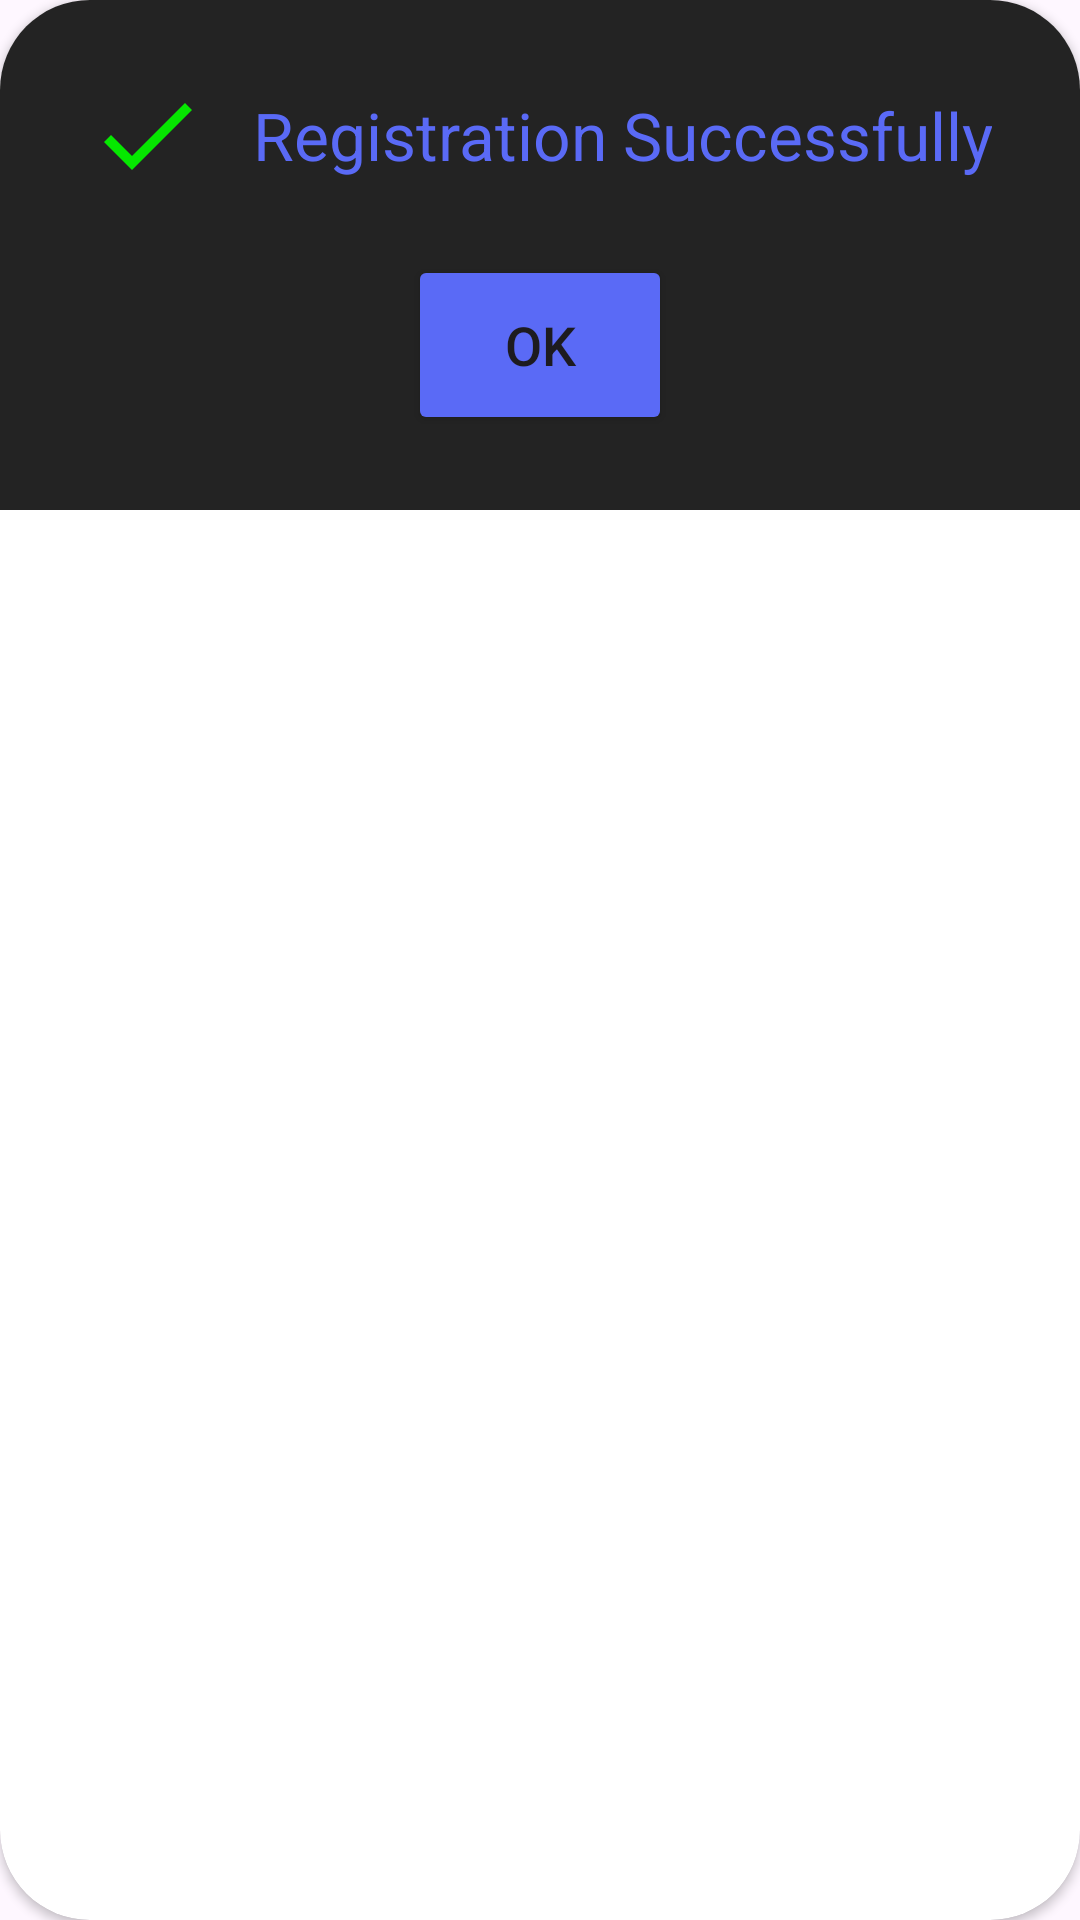

Named icons in this screenshot (1080 x 1920) and their bounding boxes, (x1, y1, x2, y2):
done: (104, 103, 192, 170)
